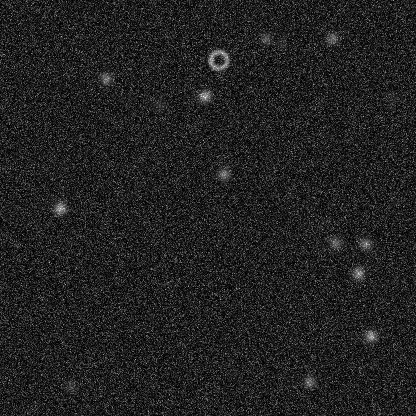Ring: (206, 47, 230, 71)
Spot: (151, 97, 167, 113), (357, 235, 373, 251), (97, 70, 113, 86), (273, 36, 289, 52), (362, 328, 378, 344), (300, 373, 316, 389), (383, 89, 399, 105), (215, 165, 231, 181), (51, 200, 67, 216), (257, 30, 273, 46), (350, 265, 366, 281), (196, 87, 212, 103), (324, 30, 340, 46), (326, 235, 342, 251), (63, 377, 79, 393)
